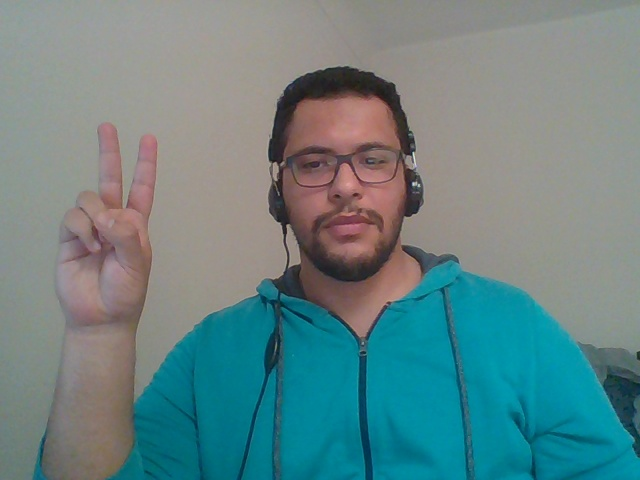vectory: (31, 115, 203, 361)
